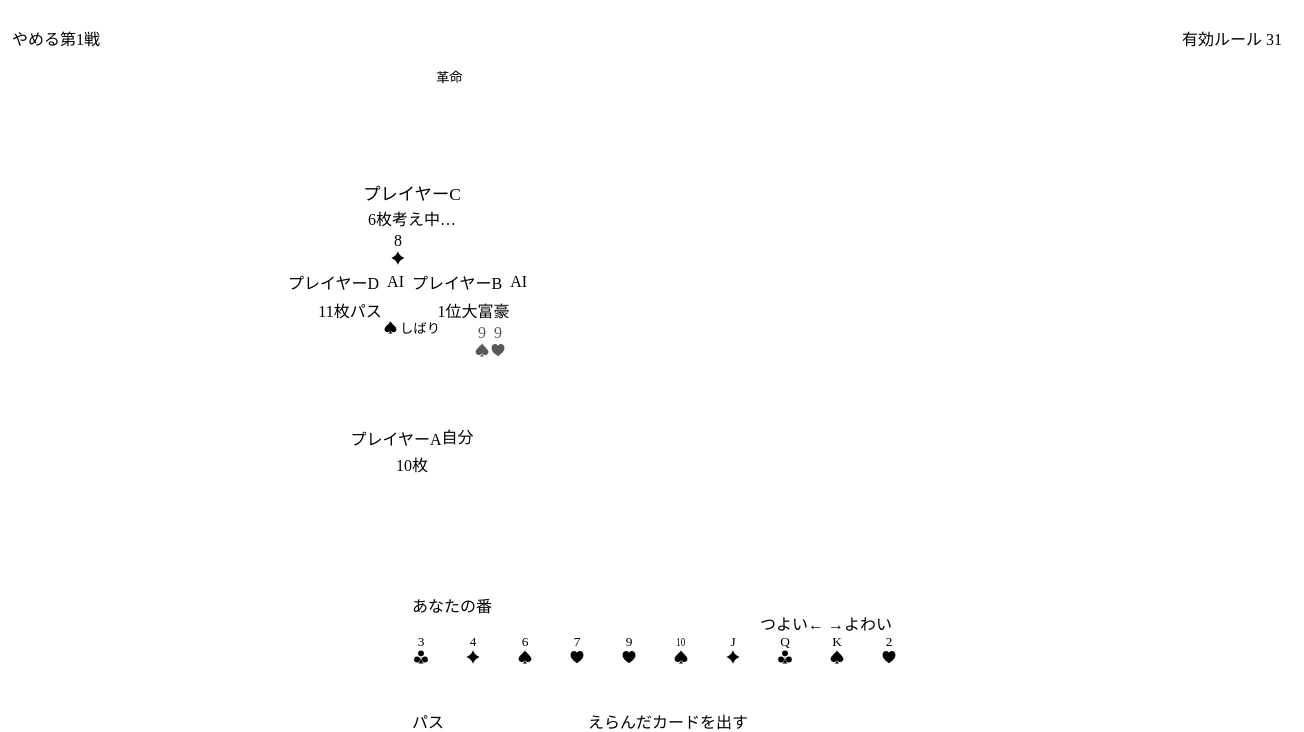
Test: DS-02: フェーズ 1 の主要画面が 1 本の導線でつながる › カードを出すとルール名のカットインが出る(効果の説明文は置かない)
expect the text "8切り" is not shown: met
Click the button named "クラブの3". click: {"x": 438, "y": 671}
box: [412, 633, 464, 709]
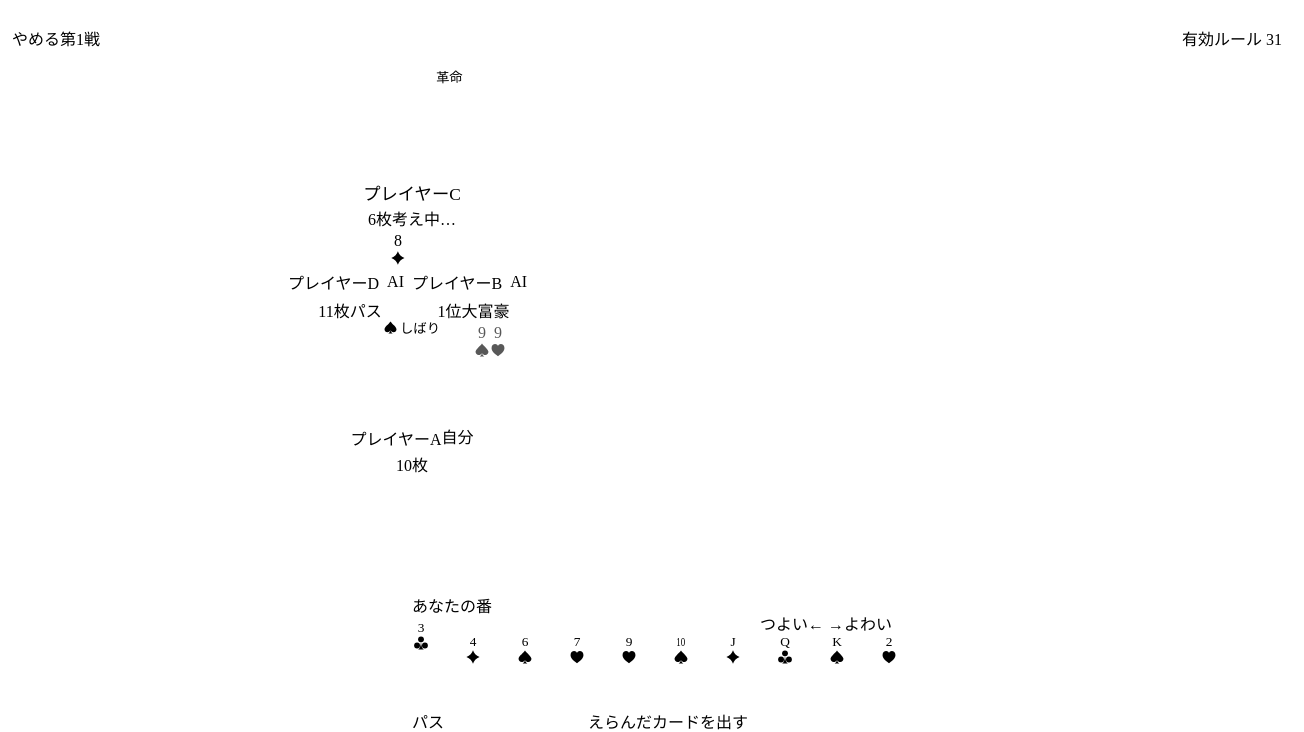
Click the button "えらんだカードを出す". click: {"x": 668, "y": 722}
box: [444, 713, 892, 731]
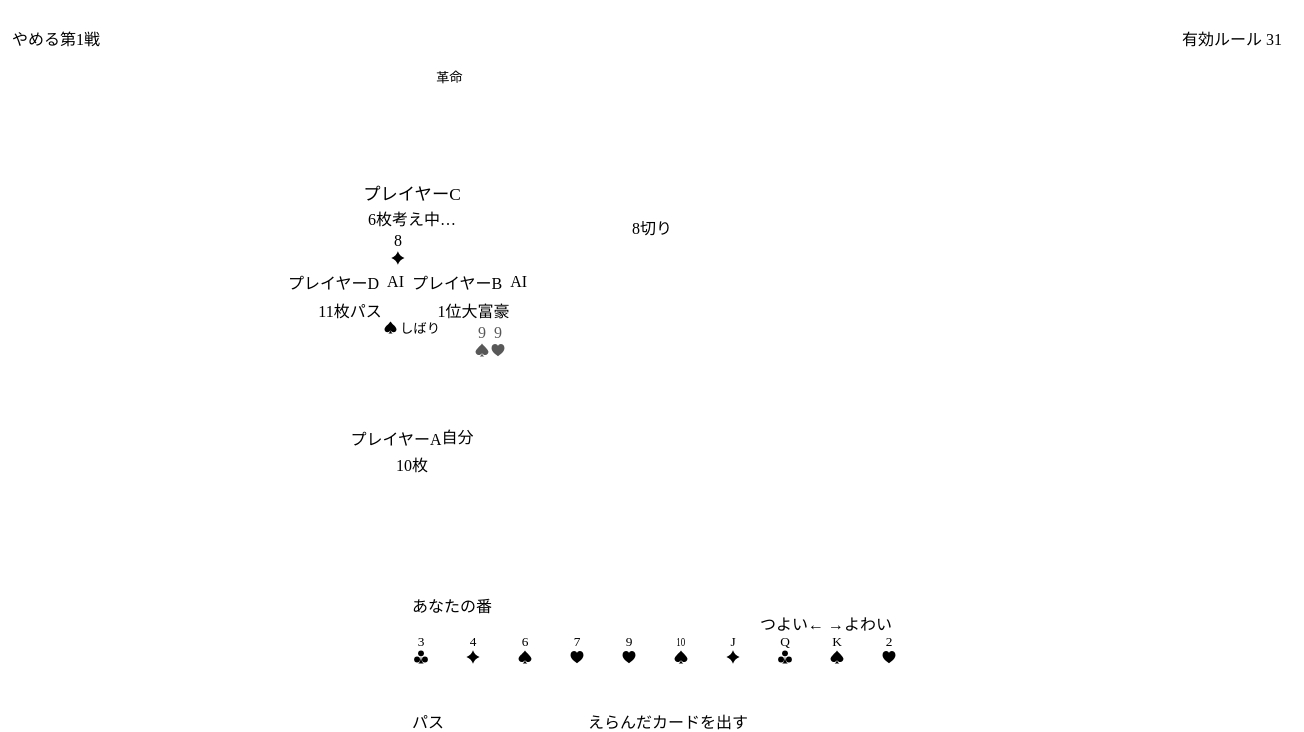
expect the text "8切り" is shown: met, box [632, 215, 672, 239]
